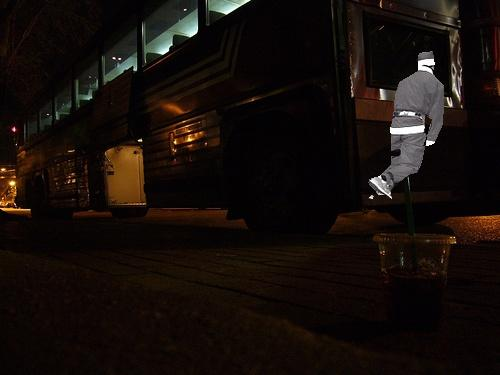tampered: (369, 52, 444, 199)
